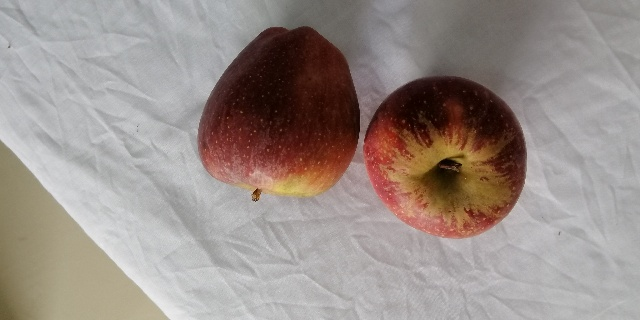apple_kashmir: (196, 23, 361, 202), (362, 71, 529, 238)
